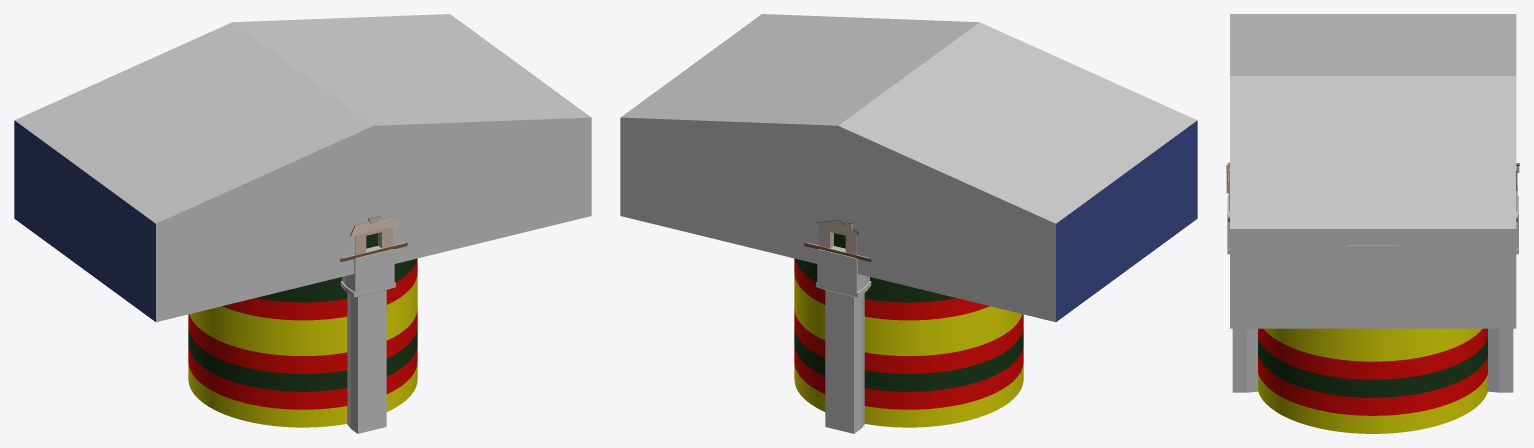
Rendered from RopeGame.fbx.
3 views of the same model, side by side, from view 1: azimuth 30°, elevation 25°; view 2: azimuth 150°, elevation 25°; view 3: azimuth 270°, elevation 25° (orthographic).
Visible parts, largest first — view 1: Map, StartPillar, House2; view 2: Map, EndPillar, House; view 3: Map, EndPillar, StartPillar, Timer.
Part boxes in pixels (x1,y1,x2,y2): Map: [14, 14, 591, 427]; StartPillar: [340, 249, 395, 433]; House2: [350, 215, 399, 254]; Map: [620, 14, 1197, 427]; EndPillar: [816, 249, 871, 433]; House: [816, 220, 859, 254]; Map: [1230, 14, 1516, 433]; EndPillar: [1488, 195, 1518, 392]; StartPillar: [1227, 195, 1257, 392]; Timer: [1347, 245, 1399, 260].
Size of the model in its own units: 7845 by 5258 by 4518.
